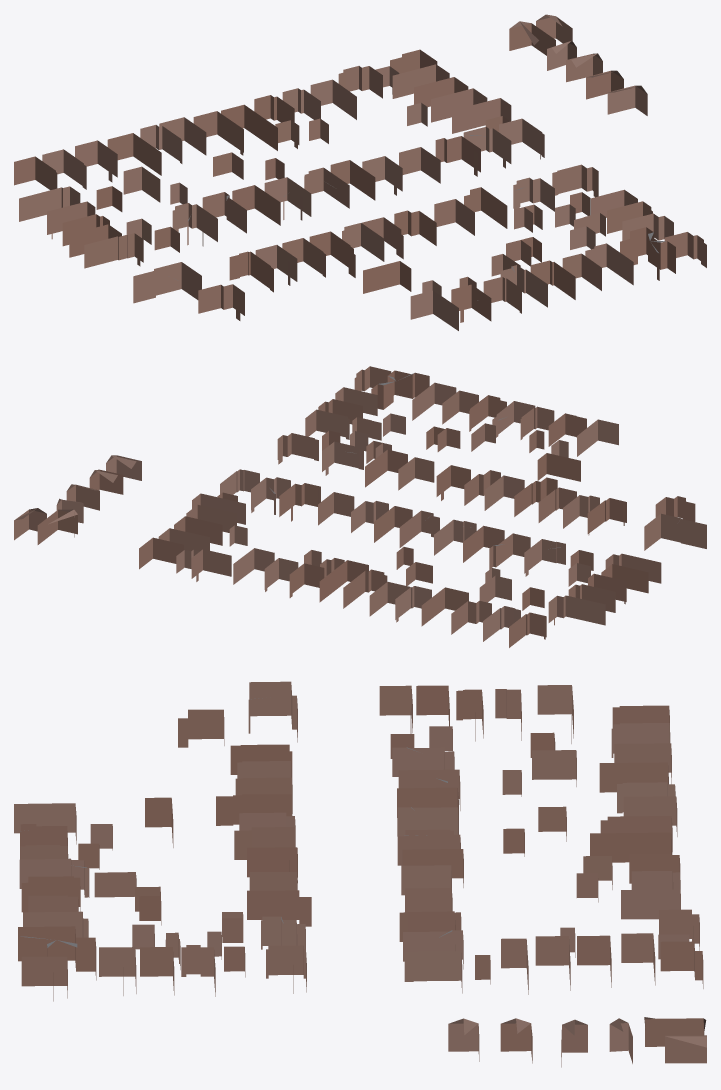
Rendered from c_1640_17825_buildings_residential.glb.
3 views of the same model, one above another, from view 1: azimuth 30°, elevation 25°; view 2: azimuth 150°, elevation 25°; view 3: azimuth 270°, elevation 25° (orthographic). The views are drawn at different scales.
Visible parts, largest first — view 1: geometry_0; view 2: geometry_0; view 3: geometry_0.
Boxes of the visible parts, x1,y1,x2,y2 form: geometry_0: (14, 14, 706, 330); geometry_0: (14, 366, 706, 647); geometry_0: (14, 681, 706, 1067).
Bounding box in the file's own units: 250 × 11.08 × 203.
